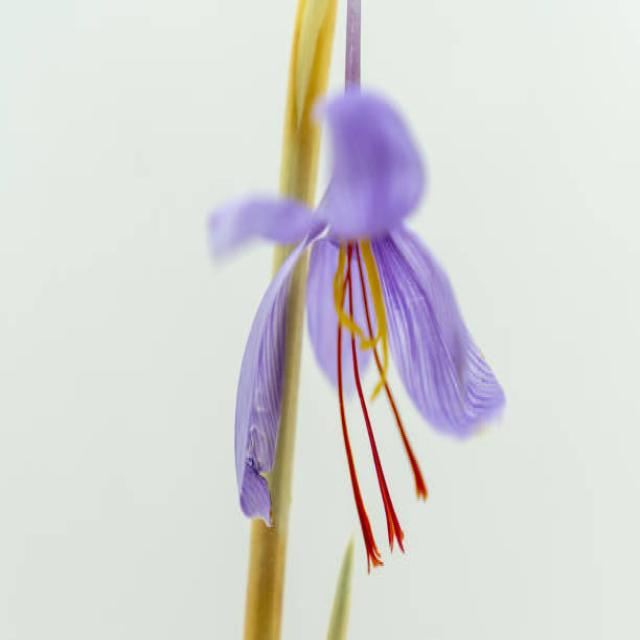saffron open: (210, 0, 505, 568)
